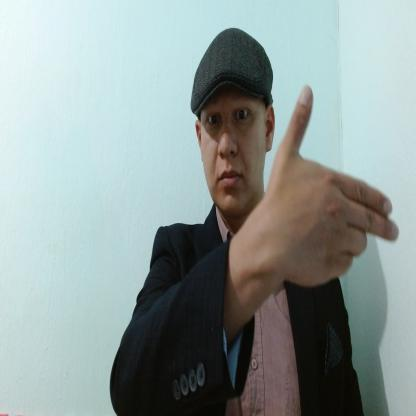H: (265, 84, 400, 288)
